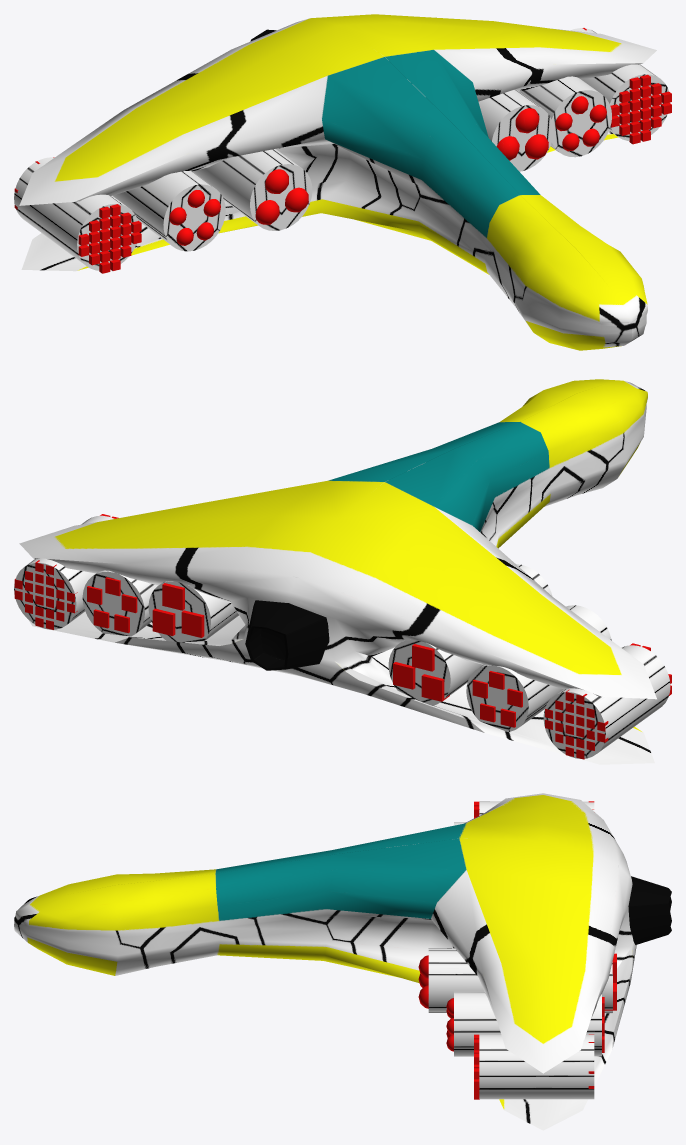
Rendered from preacher.gltf.
The picture shows the model from 3 angles, top to bottom: view 1: azimuth 30°, elevation 25°; view 2: azimuth 150°, elevation 25°; view 3: azimuth 270°, elevation 25°; orthographic projection. The views are drawn at different scales.
Parts seen in each view (by area): view 1: base_baked; view 2: base_baked; view 3: base_baked.
Part boxes in pixels (x1,y1,x2,y2): base_baked: [14, 14, 671, 350]; base_baked: [14, 379, 671, 764]; base_baked: [14, 793, 671, 1130].
Bounding box in the file's own units: 8.71 × 2.22 × 8.64.
Materials: 1 (1 with a texture image).
